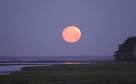moon: (60, 25, 82, 44)
